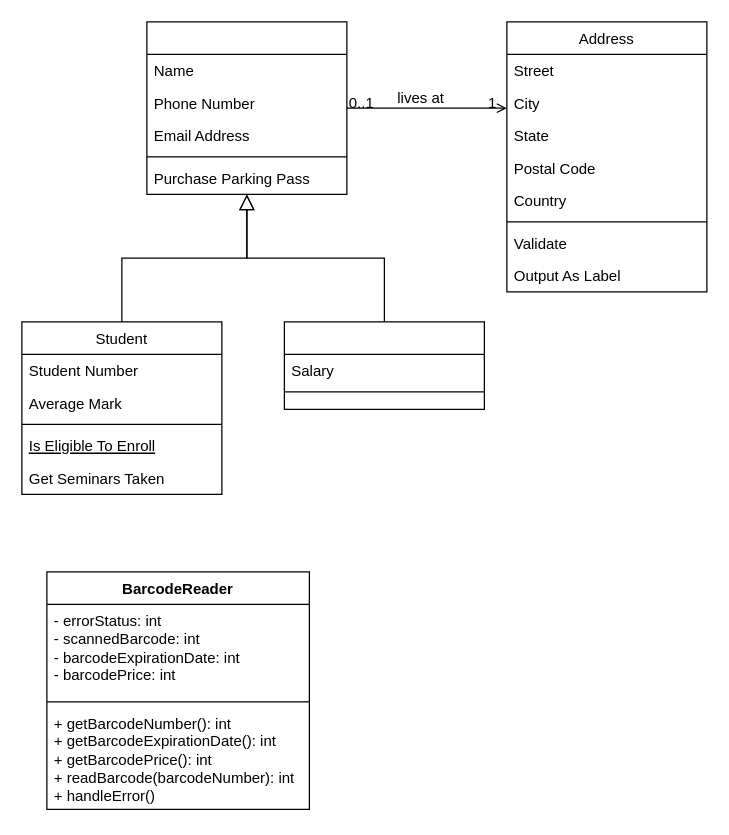
The diagram is 729 pixels wide and 835 high, and some of its shapes have lost their labels. The shapes that lost their labels are listed below. From the top down, each one's box as (x1, y1, x2, y2) in pixels, then its label:
(146, 21, 347, 194): Person
(283, 321, 484, 409): Professor
